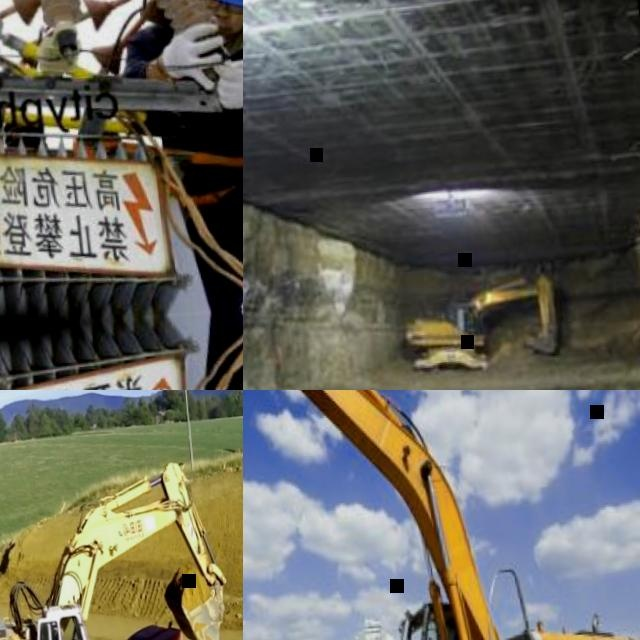NO-Hardhat: (59, 626, 62, 631)
NO-Mask: (216, 15, 236, 41)
NO-Safety Vest: (135, 17, 243, 182), (54, 634, 66, 640)
Person: (107, 0, 243, 335), (57, 624, 78, 640)
machinery: (243, 390, 640, 640), (0, 454, 238, 640), (396, 268, 561, 375)
